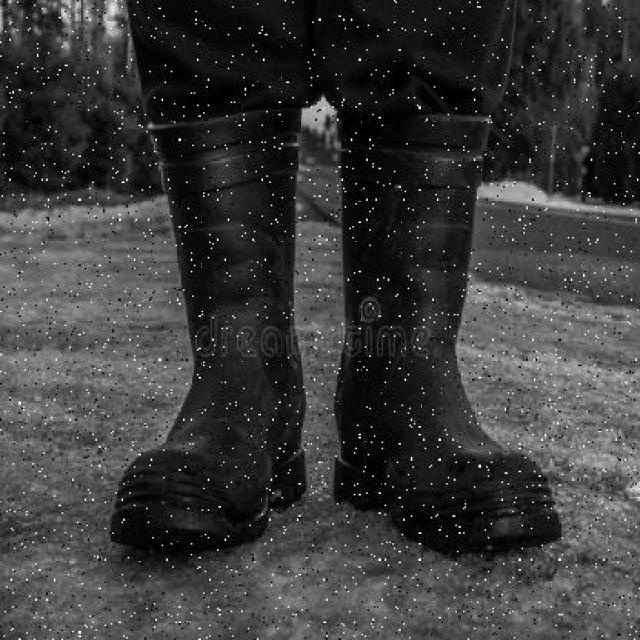shoes: (321, 117, 556, 546), (105, 116, 310, 547)
